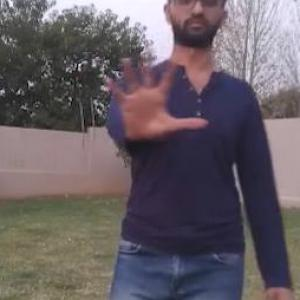follow_hand: (96, 31, 208, 144)
